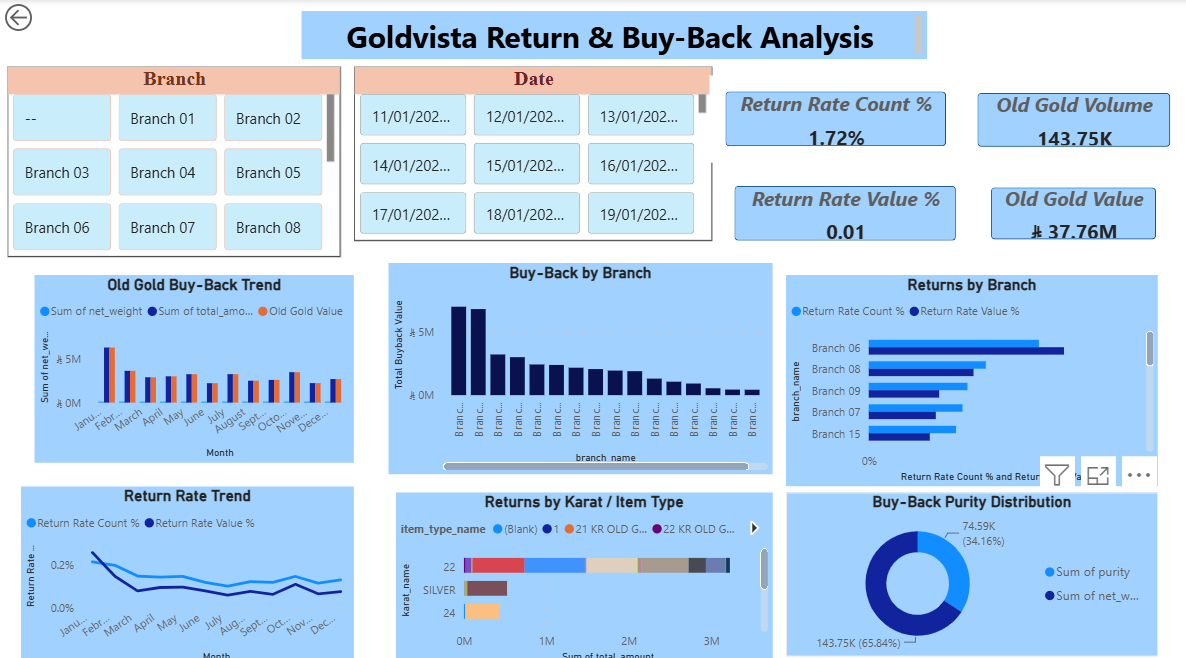

Layout of this report page (visuals, bound fields, positions):
{"tool":"powerbi","page":{"name":"Returns & Buy-Back Analysis","canvas":[1280,720],"ordinal":4},"visuals":[{"type":"textbox","box":[325.5,13,675.2,51.8],"z":0},{"type":"lineChart","title":"Return Rate Trend","fields":{"Y":["Customer Purchase Distribution.Return Rate Count %","Customer Purchase Distribution.Return Rate Value %"],"Category":["public fact_returns.return_date.Variation.Date Hierarchy.Month"]},"box":[22.7,526.2,359.5,194.3],"z":1000},{"type":"clusteredBarChart","title":"Returns by Branch","fields":{"Category":["public dim_branch.branch_name"],"Y":["Customer Purchase Distribution.Return Rate Count %","Customer Purchase Distribution.Return Rate Value %"]},"box":[848.5,297.9,401.6,228.3],"z":2000},{"type":"barChart","title":"Returns by Karat / Item Type","fields":{"Category":["public dim_karat.karat_name"],"Series":["public dim_item_type.item_type_name"],"Y":["Sum(public fact_returns.total_amount)"]},"box":[427.5,532.7,406.4,187.8],"z":3000},{"type":"clusteredColumnChart","title":"Old Gold Buy-Back Trend","fields":{"Category":["public fact_old_gold_purchase.purchase_date.Variation.Date Hierarchy.Month"],"Y":["Sum(public fact_old_gold_purchase.net_weight)","Sum(public fact_old_gold_purchase.total_amount)","Customer Purchase Distribution.Old Gold Value"]},"box":[37.2,297.9,344.9,202.4],"z":4000},{"type":"columnChart","title":"Buy-Back by Branch","fields":{"Category":["public dim_branch.branch_name"],"Y":["Date.Total Buyback Value"]},"box":[419.4,285,414.5,228.3],"z":5000},{"type":"donutChart","title":"Buy-Back Purity Distribution","fields":{"Y":["Sum(public dim_item.purity)","Sum(public fact_old_gold_purchase.net_weight)"]},"box":[848.5,532.7,401.6,176.5],"z":6000},{"type":"cardVisual","fields":{"Data":["Customer Purchase Distribution.Old Gold Volume"]},"box":[1037.9,84.2,242.9,92.3],"z":7000},{"type":"cardVisual","fields":{"Data":["Customer Purchase Distribution.Old Gold Value"]},"box":[1052.5,186.2,212.1,90.7],"z":8000},{"type":"advancedSlicerVisual","title":"Branch","fields":{"Values":["public dim_branch.branch_name"]},"box":[8.1,72.9,359.5,205.6],"z":9000},{"type":"advancedSlicerVisual","fields":{"Values":["Date.Date"]},"box":[382.1,72.9,387,187.8],"z":10000},{"type":"cardVisual","fields":{"Data":["Customer Purchase Distribution.Return Rate Value %"]},"box":[775.6,184.6,273.6,93.9],"z":11000},{"type":"cardVisual","fields":{"Data":["Customer Purchase Distribution.Return Rate Count %"]},"box":[780.5,82.6,272,93.9],"z":12000}]}

Visuals, with their boxes in screenshot pixels (x1, y1, x2, y2), scaled from the page's 1280x720 canvas onto the 1186x658 screenshot:
textbox: Rect(302, 12, 927, 59)
"Return Rate Trend" lineChart: Rect(21, 481, 354, 657)
"Returns by Branch" clusteredBarChart: Rect(786, 272, 1158, 481)
"Returns by Karat / Item Type" barChart: Rect(396, 487, 773, 657)
"Old Gold Buy-Back Trend" clusteredColumnChart: Rect(34, 272, 354, 457)
"Buy-Back by Branch" columnChart: Rect(389, 260, 773, 469)
"Buy-Back Purity Distribution" donutChart: Rect(786, 487, 1158, 648)
cardVisual - Customer Purchase Distribution.Old Gold Volume: Rect(962, 77, 1185, 161)
cardVisual - Customer Purchase Distribution.Old Gold Value: Rect(975, 170, 1172, 253)
"Branch" advancedSlicerVisual: Rect(8, 67, 341, 255)
advancedSlicerVisual - Date.Date: Rect(354, 67, 713, 238)
cardVisual - Customer Purchase Distribution.Return Rate Value %: Rect(719, 169, 972, 255)
cardVisual - Customer Purchase Distribution.Return Rate Count %: Rect(723, 75, 975, 161)
